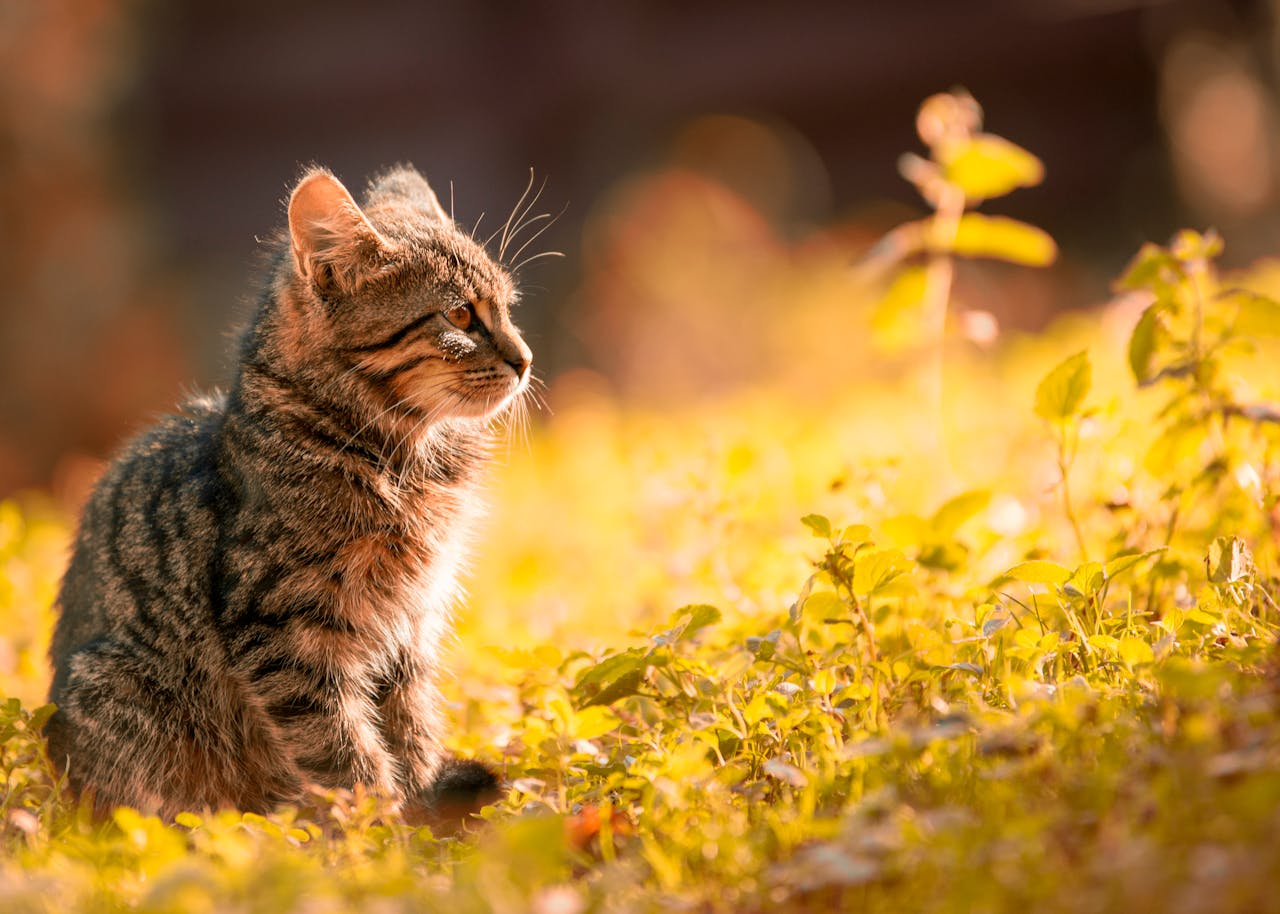cat: (64, 131, 544, 833)
